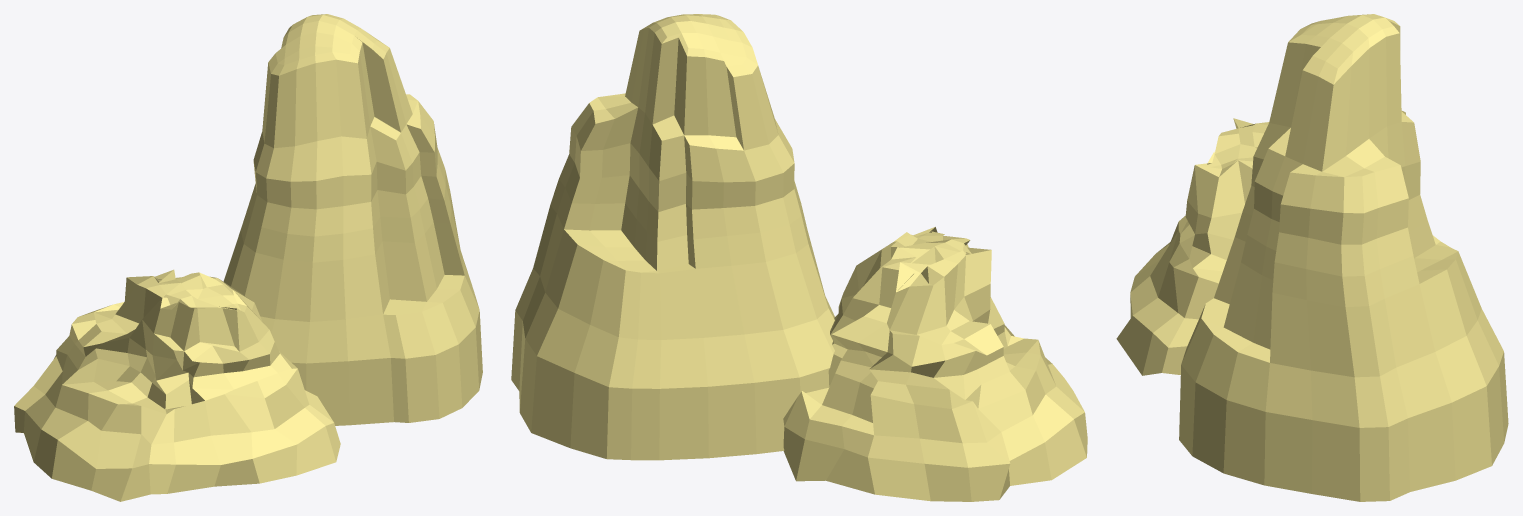
Rendered from BigRock02.fbx.
3 views of the same model, side by side, from view 1: azimuth 30°, elevation 25°; view 2: azimuth 150°, elevation 25°; view 3: azimuth 270°, elevation 25° (orthographic). The views are drawn at different scales.
Visible parts, largest first — view 1: Plane.025; view 2: Plane.025; view 3: Plane.025.
Part boxes in pixels (x1,y1,x2,y2): Plane.025: (14,14,482,501); Plane.025: (511,14,1087,501); Plane.025: (1116,14,1508,501).
Size of the model in its own units: 5954 by 4402 by 3804.
